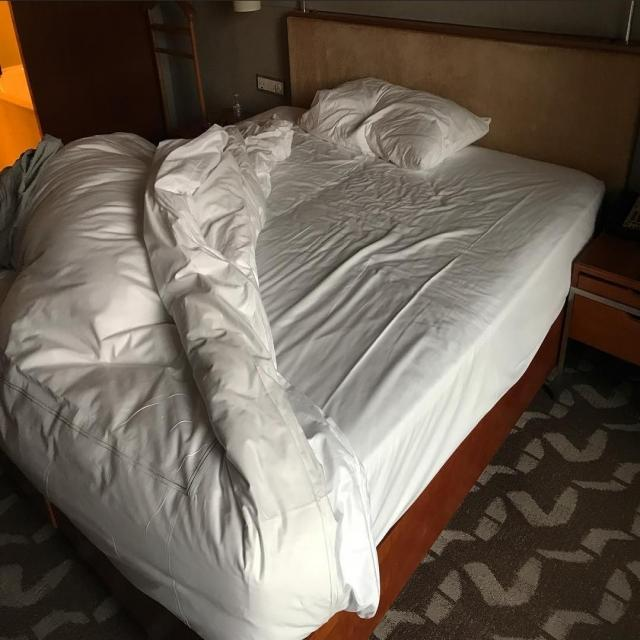bed: (0, 74, 606, 640)
